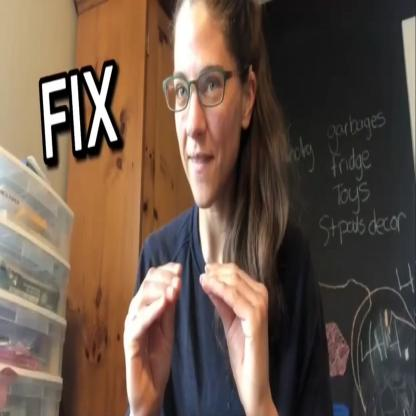Fix: (124, 240, 271, 416)
